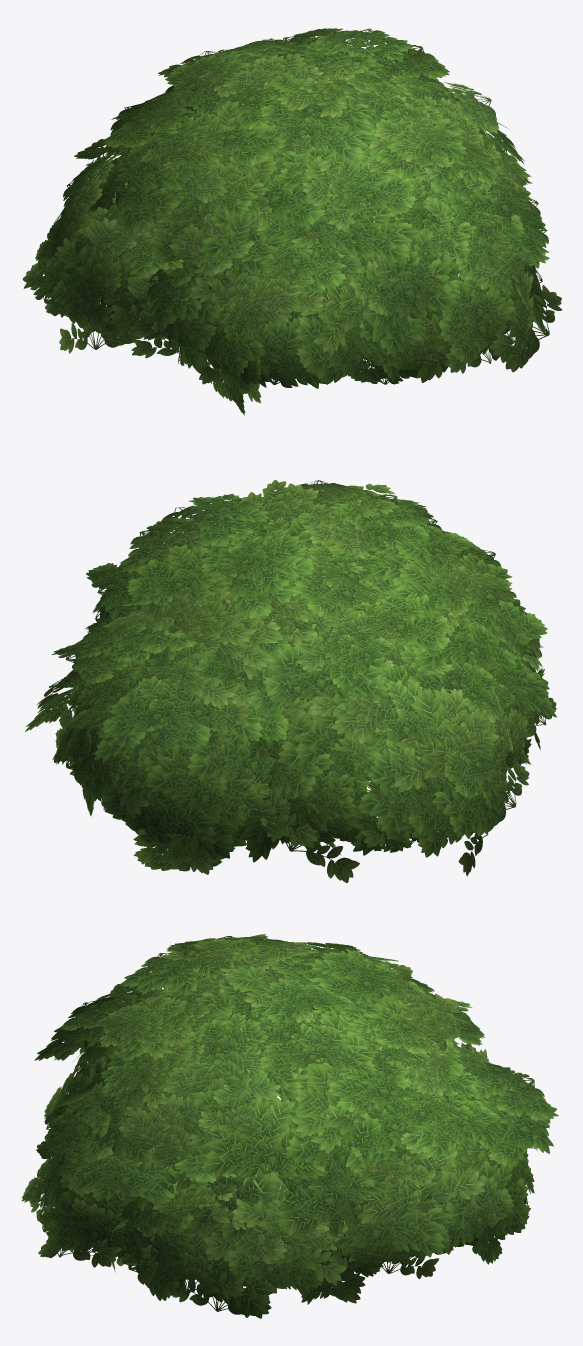
The model's file is bush_b.glb.
The picture shows the model from 3 angles, top to bottom: view 1: azimuth 30°, elevation 25°; view 2: azimuth 150°, elevation 25°; view 3: azimuth 270°, elevation 25°; orthographic projection. The views are drawn at different scales.
Parts seen in each view (by area): view 1: leaves; view 2: leaves; view 3: leaves.
Part boxes in pixels (x1=…): leaves: x1=22, y1=28, x2=562, y2=415; leaves: x1=25, y1=480, x2=556, y2=883; leaves: x1=22, y1=934, x2=558, y2=1318.
Bounding box in the file's own units: 1.86 × 1.19 × 1.94.
2 materials, 2 textured.
